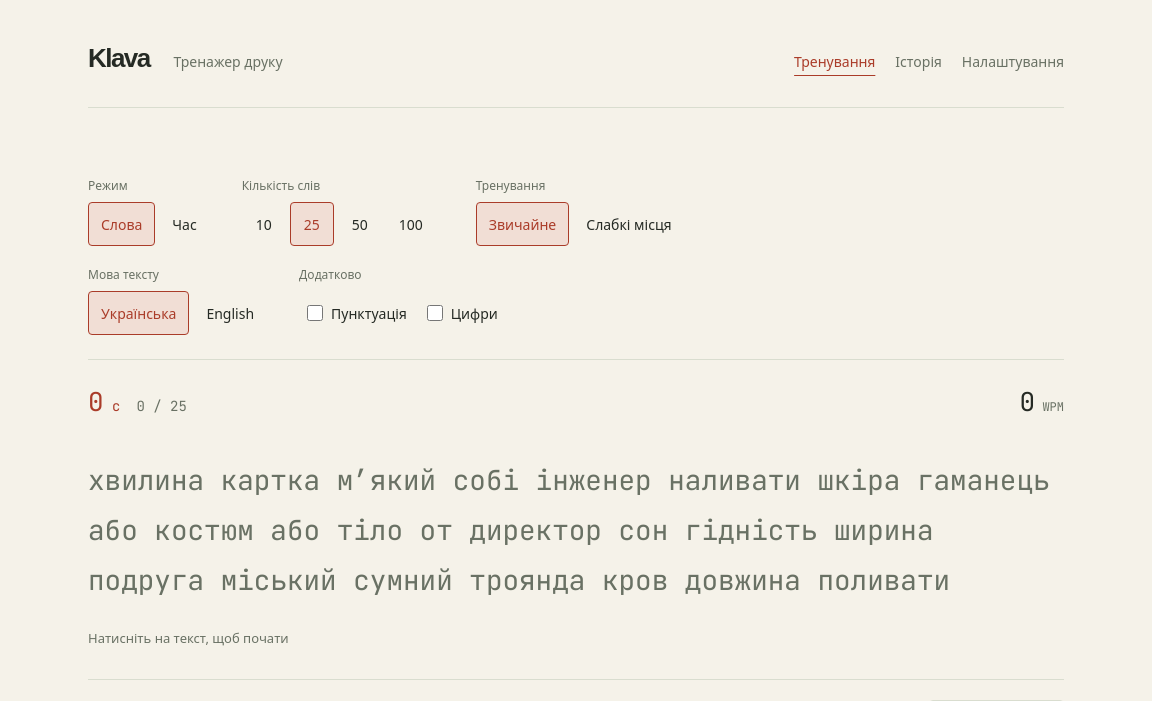
Test: opens history and returns to the current training options
Click the radio button labelled "English" at (230, 313), box [206, 304, 254, 323]
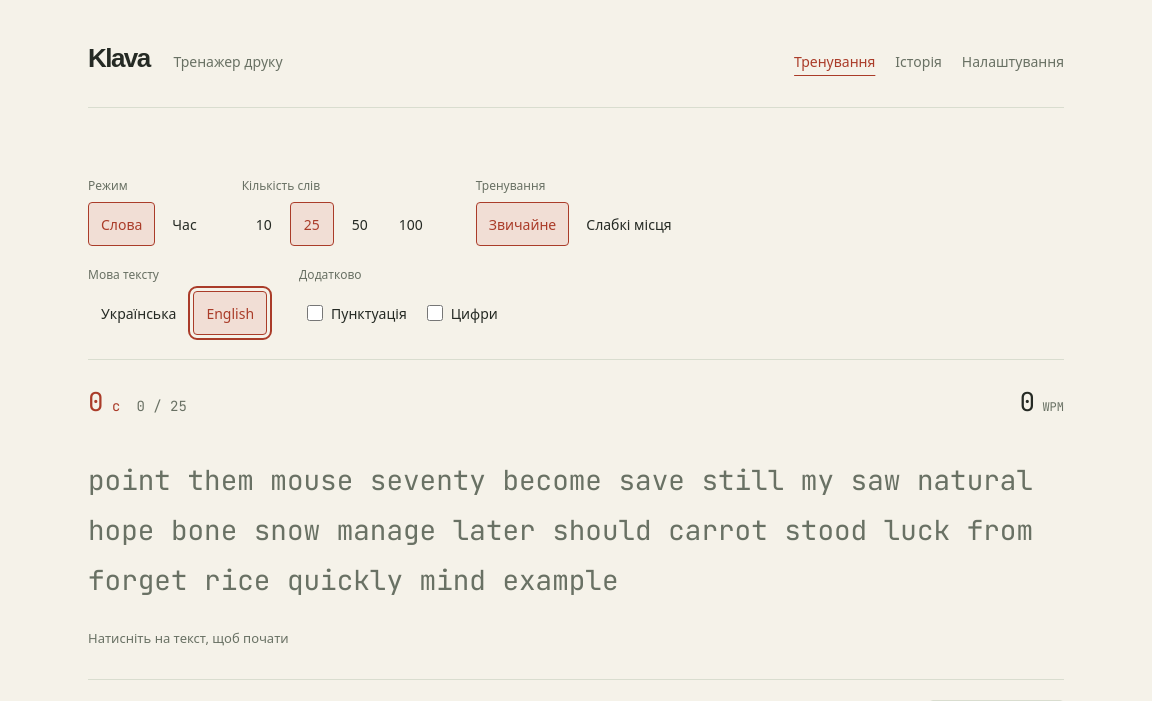
Click the link "Історія" at (919, 62), box [895, 52, 942, 71]
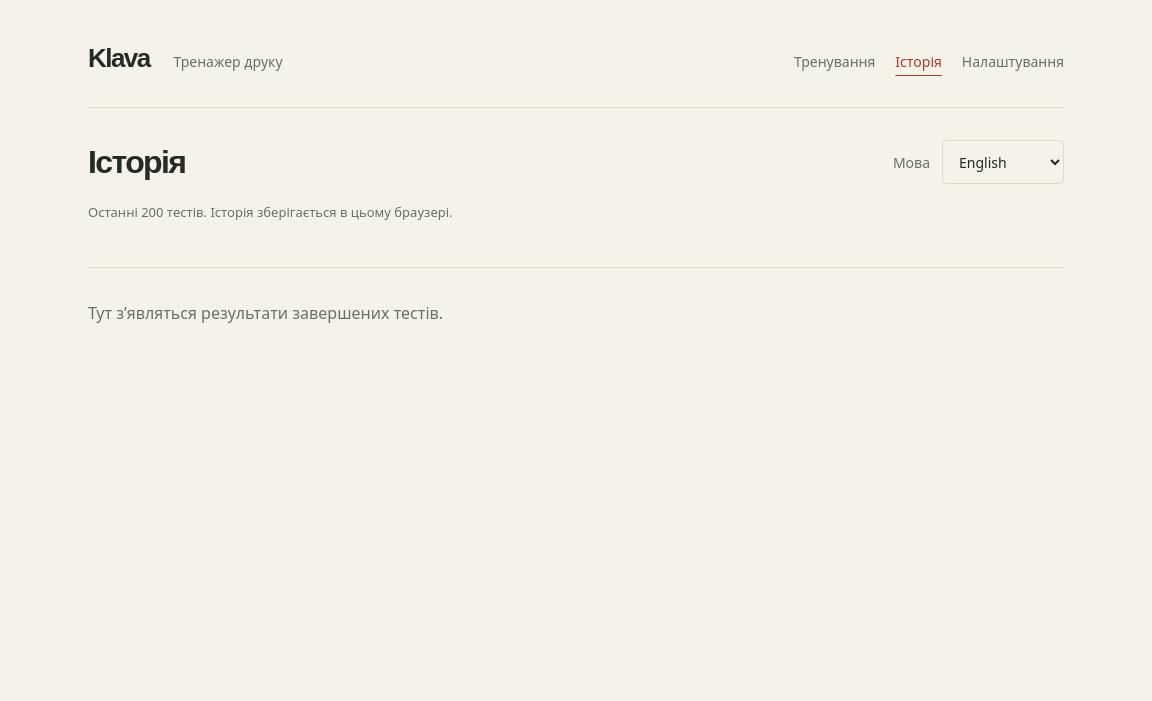
Expected: the dropdown labelled "Мова" shows "English", [942, 140, 1064, 184]
Click the link "Тренування" at (835, 62), box [794, 52, 875, 71]
(page scrolled)
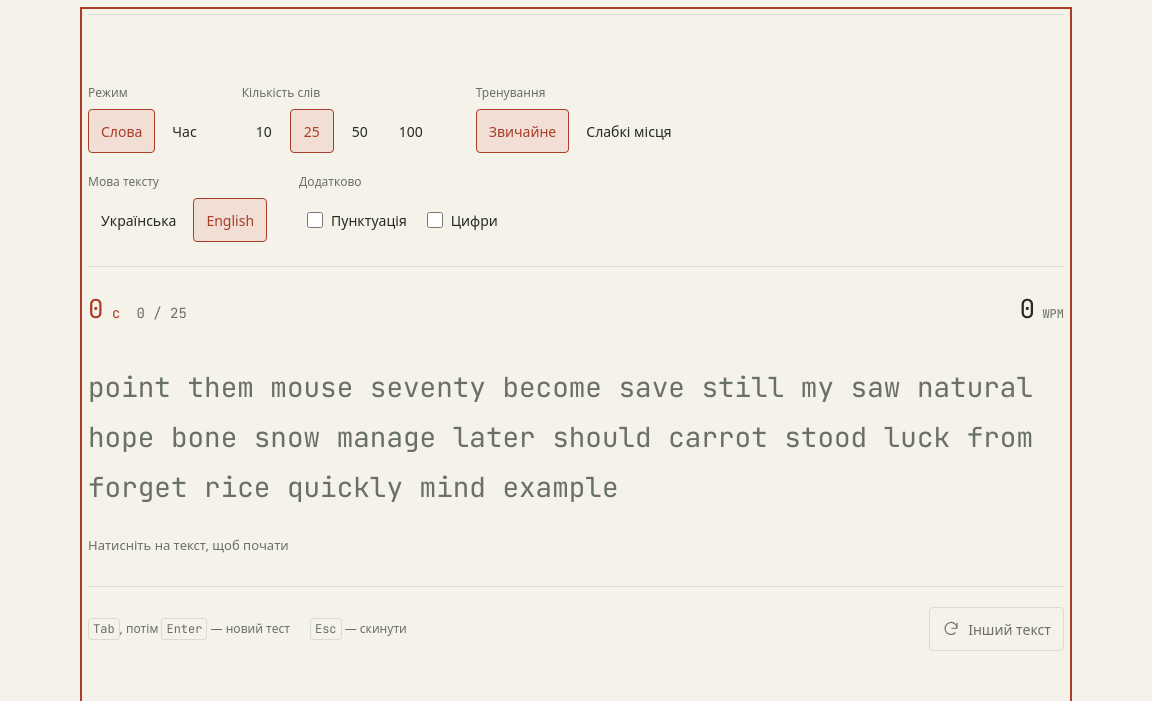
Expected: the radio button labelled "English" is checked, [193, 198, 267, 242]
